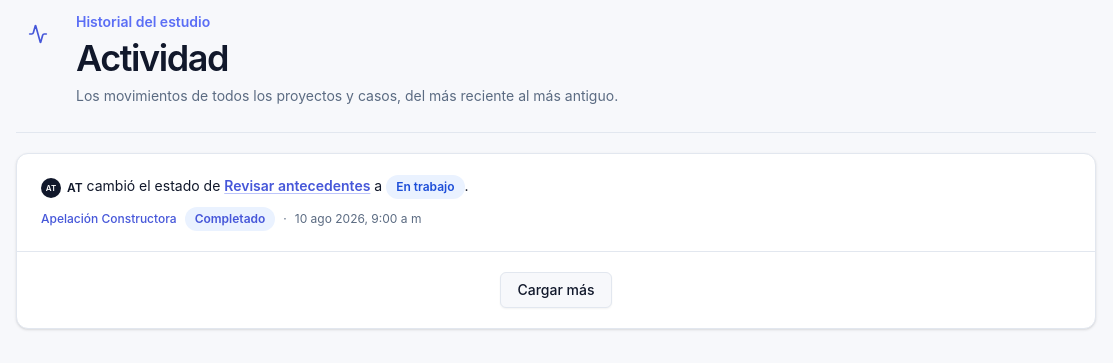
Scenario: StudioActivityPage › loads and appends an older activity page
Expected: the link "Apelación Constructora" is shown, x1=41 y1=211 x2=177 y2=227
Click the button "Cargar más" at (556,290), box x1=500 y1=272 x2=612 y2=308
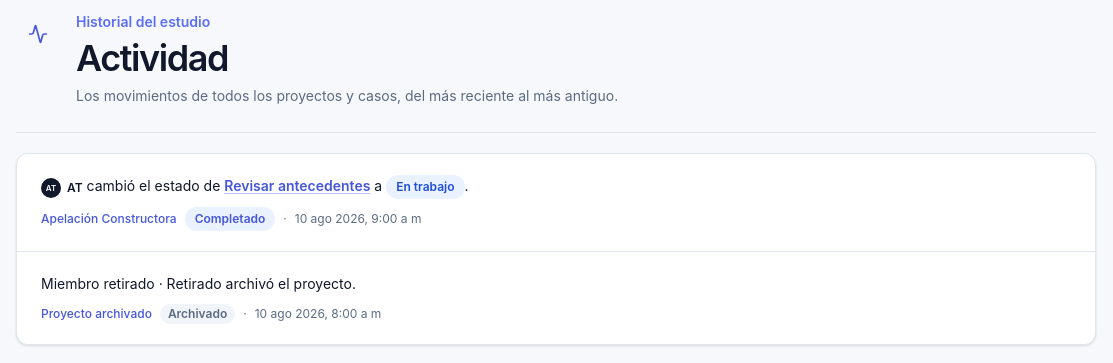
Expected: the link "Proyecto archivado" is shown, x1=41 y1=306 x2=152 y2=322
Expected: the button "Cargar más" is gone
